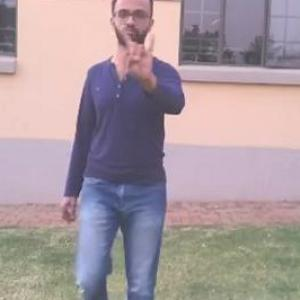takeoff-hand: (113, 22, 161, 92)
